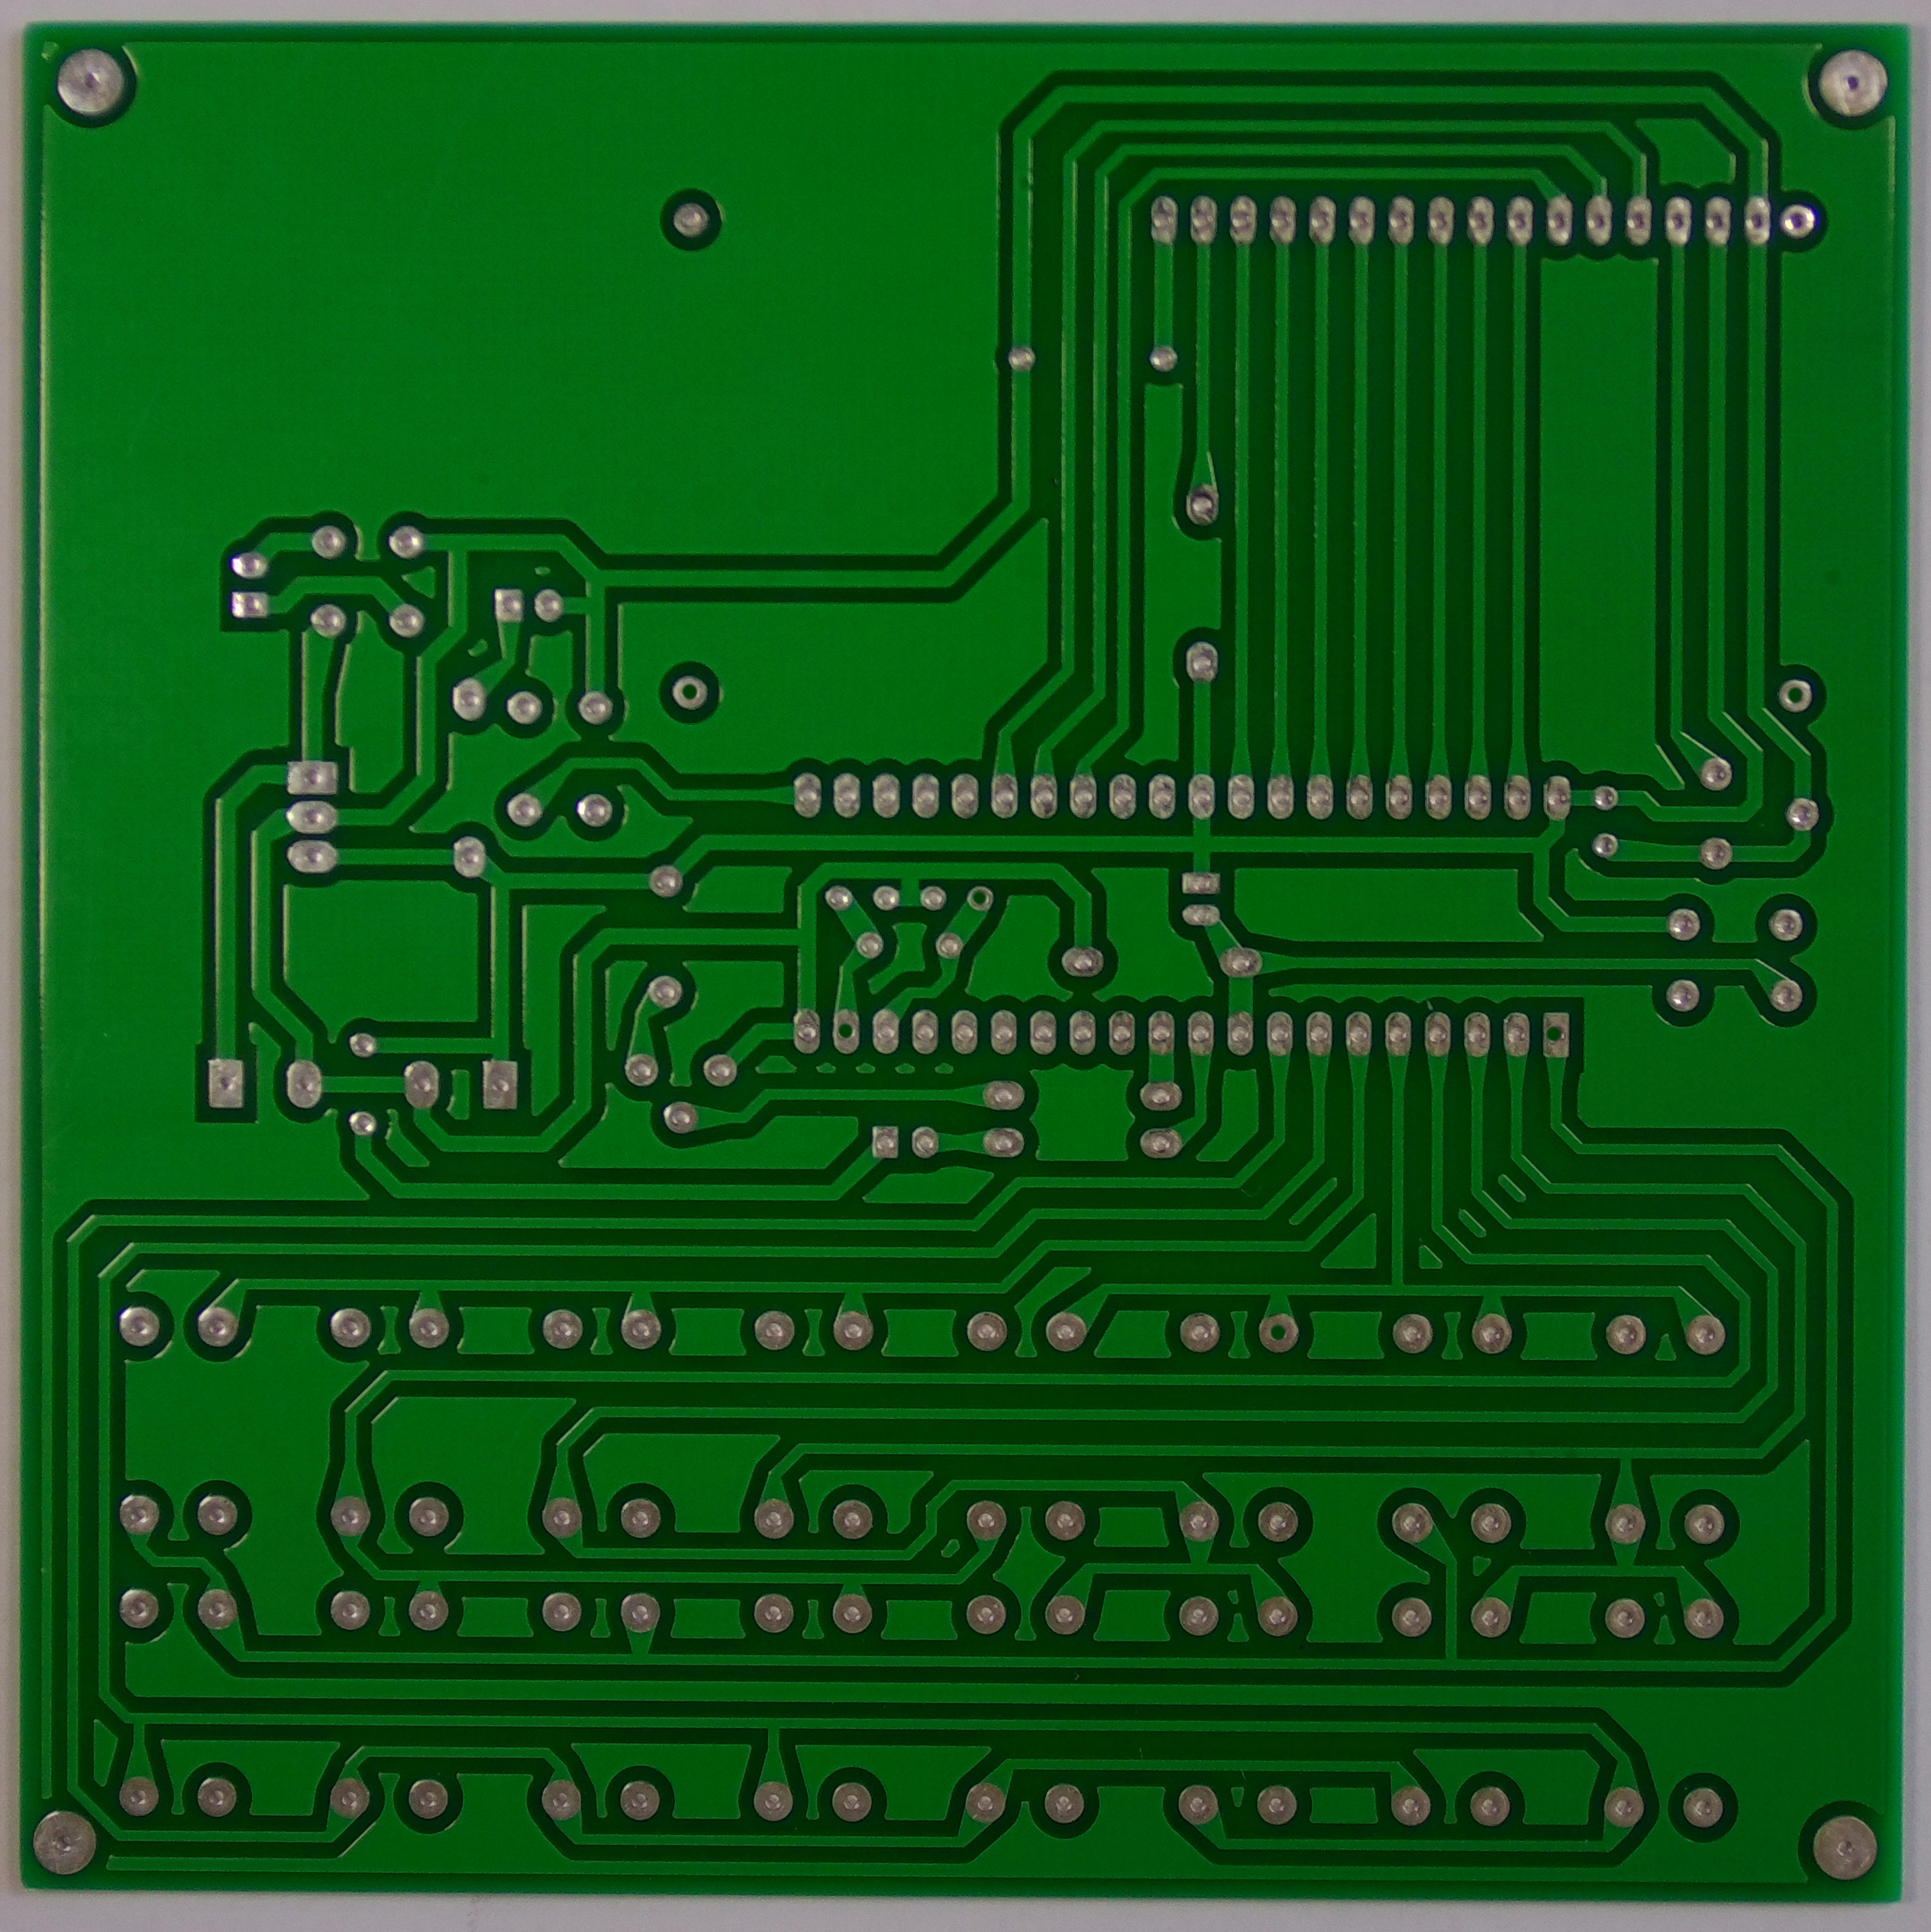missing_hole: (1255, 1306, 1303, 1361), (1532, 1011, 1577, 1060), (1770, 675, 1819, 722), (822, 1011, 867, 1053), (670, 671, 708, 710), (964, 880, 998, 919)
